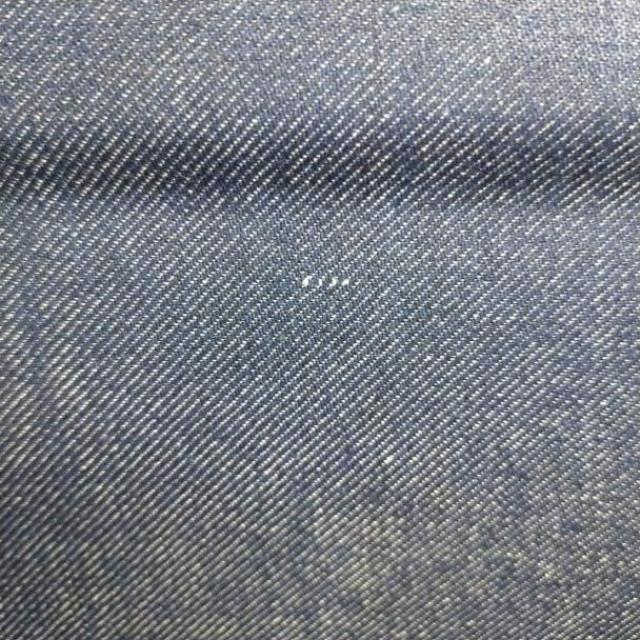Knot: (298, 272, 352, 289)
